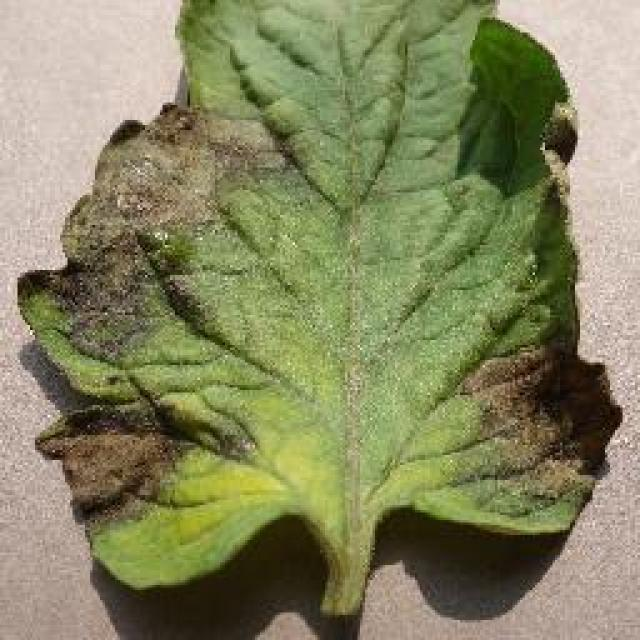Tomato late blight leaf: (19, 0, 611, 618)
